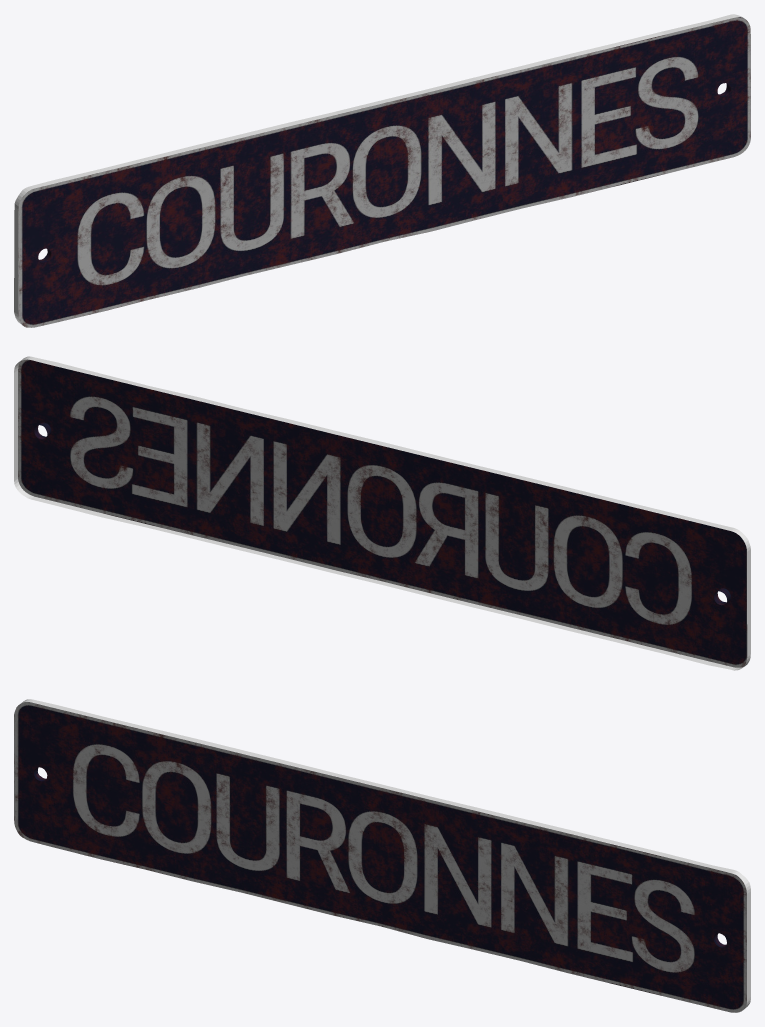
The model's file is Couronnes.glb.
3 views of the same model, one above another, from view 1: azimuth 30°, elevation 25°; view 2: azimuth 150°, elevation 25°; view 3: azimuth 330°, elevation 25° (orthographic).
Parts seen in each view (by area): view 1: Couronnes; view 2: Couronnes; view 3: Couronnes.
Boxes of the visible parts, x1,y1,x2,y2 form: Couronnes: [14, 14, 750, 327]; Couronnes: [14, 356, 750, 670]; Couronnes: [14, 699, 750, 1012].
Bounding box in the file's own units: 16.86 × 3.08 × 0.1711.
2 materials, 1 textured.
